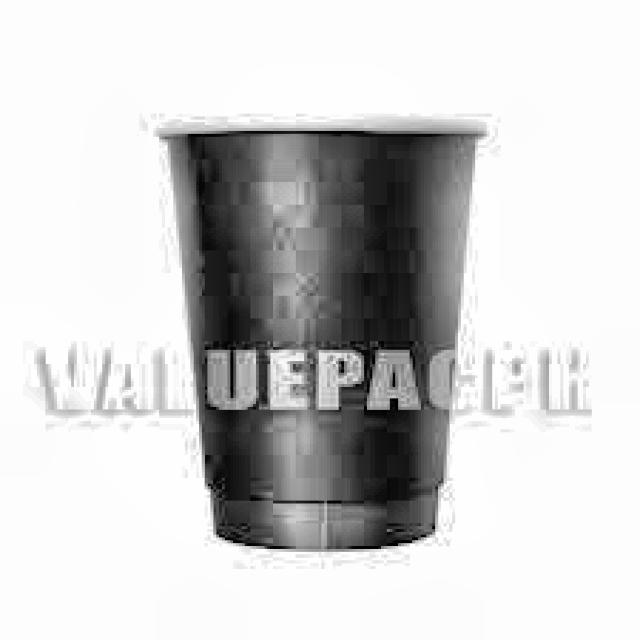Cup: (148, 114, 497, 574)
